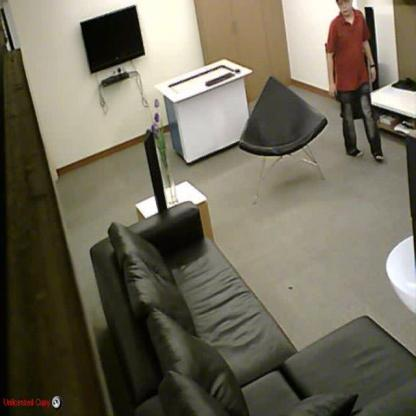Person: (326, 0, 384, 162)
